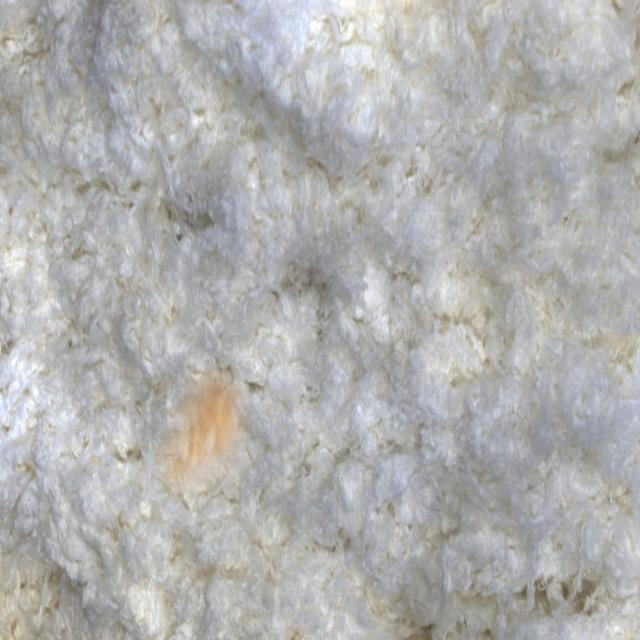dust: (152, 364, 258, 493)
